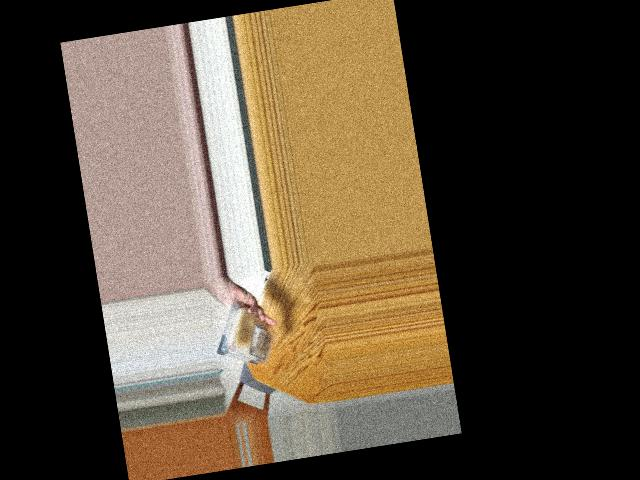cheese: (214, 298, 269, 370)
